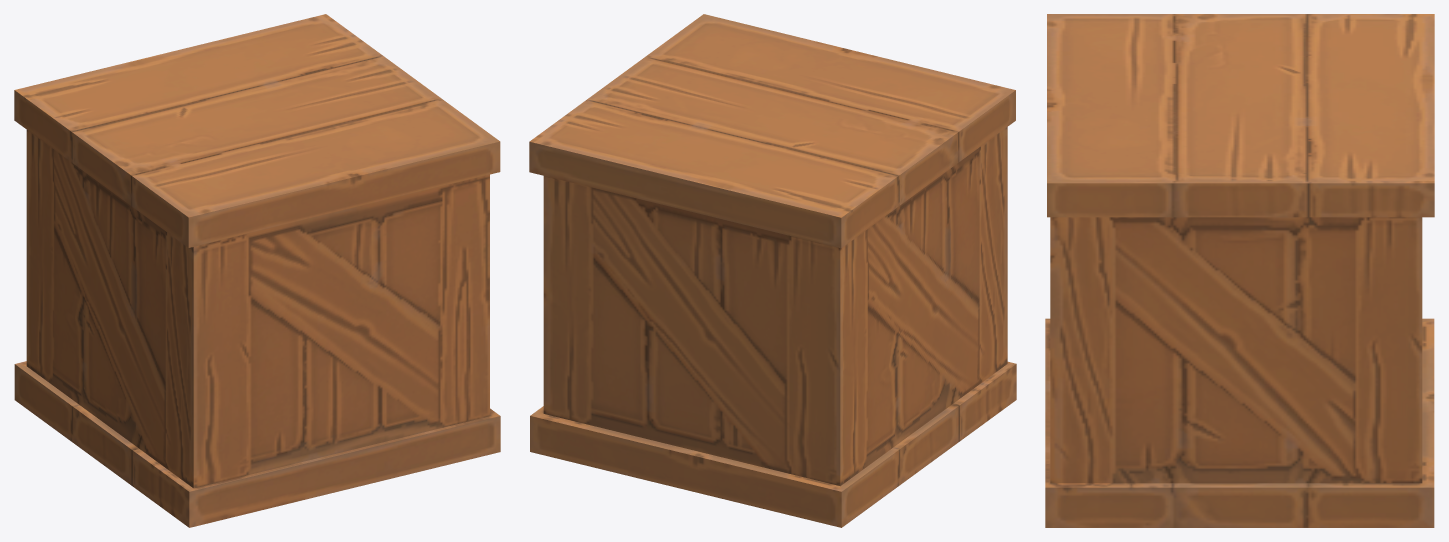
Rendered from Pfb_WoodBox.fbx.
The picture shows the model from 3 angles, left to right: view 1: azimuth 30°, elevation 25°; view 2: azimuth 150°, elevation 25°; view 3: azimuth 270°, elevation 25°; orthographic projection. The views are drawn at different scales.
Visible parts, largest first — view 1: Mat_WoodBox_01_1; view 2: Mat_WoodBox_01_1; view 3: Mat_WoodBox_01_1.
Part boxes in pixels (<box>): Mat_WoodBox_01_1: <box>14,14,500,527</box>; Mat_WoodBox_01_1: <box>529,14,1016,527</box>; Mat_WoodBox_01_1: <box>1045,14,1434,527</box>.
Bounding box in the file's own units: 0.7837 × 0.7447 × 0.7619.
1 material, 1 textured.
